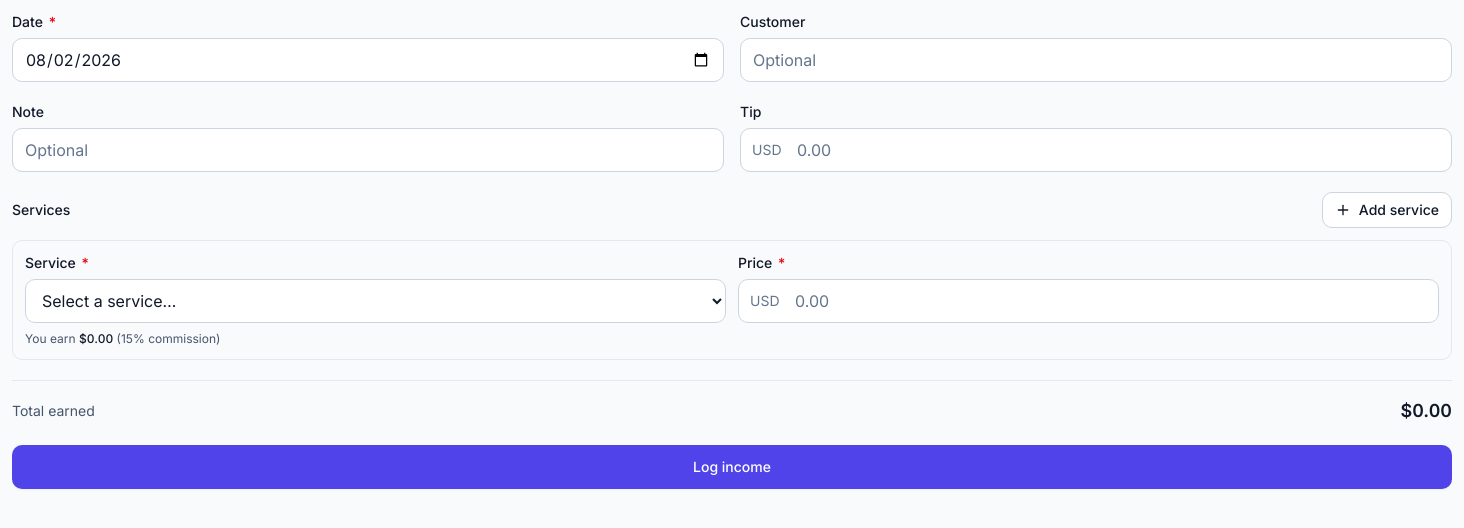
Test: EntryForm › blocks submit and shows an error when no service is picked
What coordinates should you click on to do the following:
click the button "Log income"
I would click on:
 (732, 467)
Its box is [12,445,1452,489].
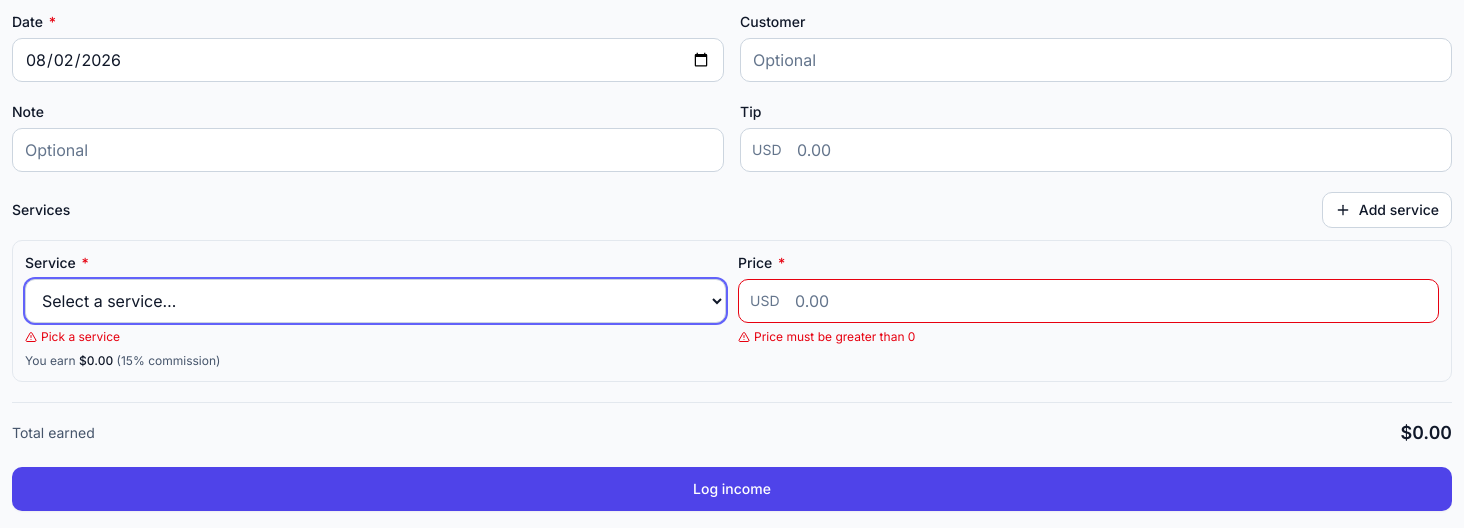
Expected: the text "Pick a service" is shown, [25,329,120,344]
